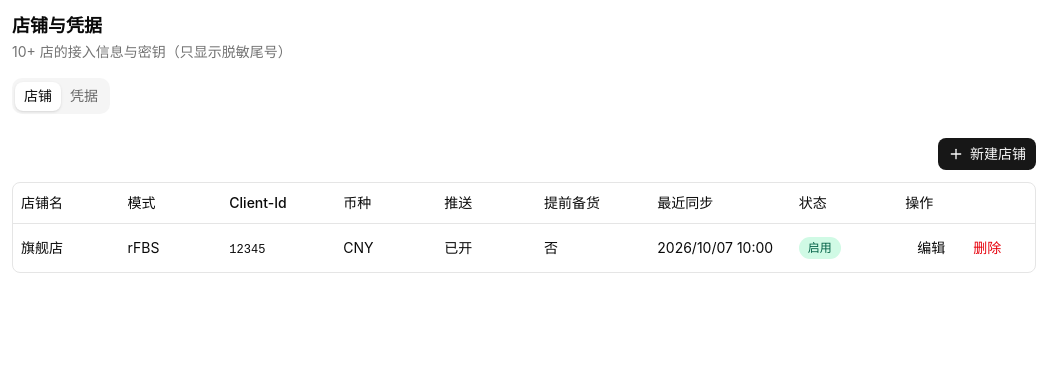
Scenario: 店铺与凭据页 › 凭据只显示脱敏尾号；≤14 天高亮、已过期更醒目；企业级显示为「企业级」
Click the tab "凭据" at (84, 96), box [61,82,107,110]
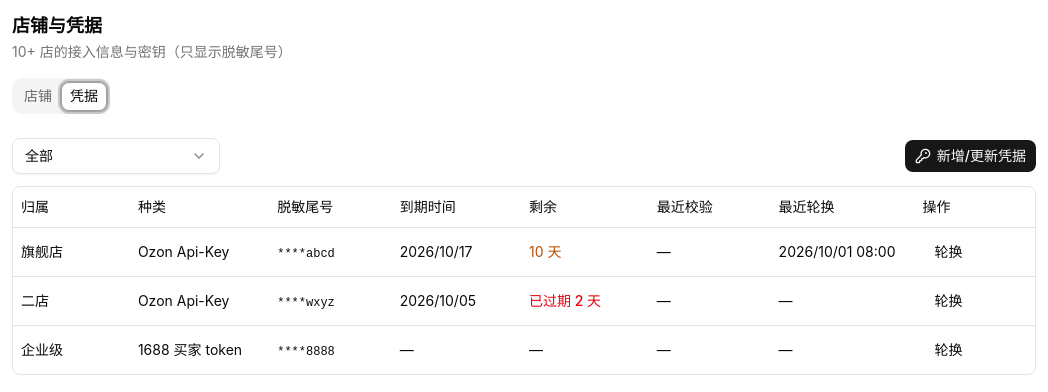
Expected: the text "****abcd" is shown, [277,246,335,260]
Expected: the text "****wxyz" is shown, [277,296,335,310]
Expected: the text "企业级" is shown, [13,325,130,374]
